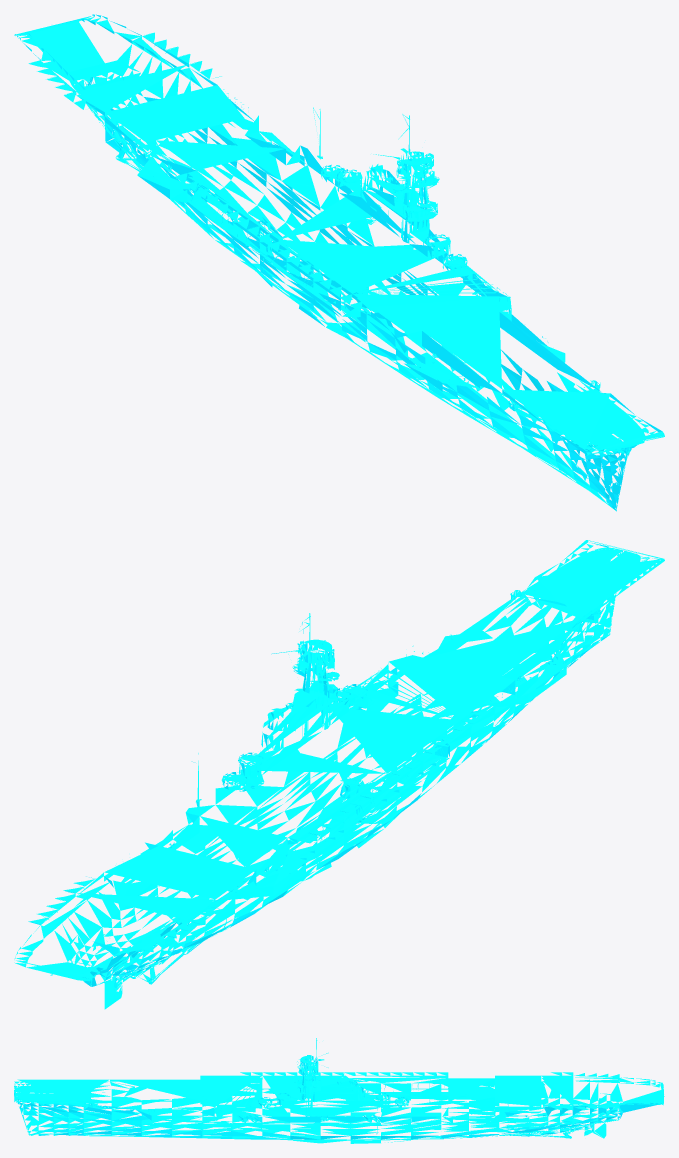
The model's file is Serov.glb.
3 renders of one model, top to bottom at view 1: azimuth 30°, elevation 25°; view 2: azimuth 150°, elevation 25°; view 3: azimuth 270°, elevation 25°, orthographic. The views are drawn at different scales.
Bounding box in the file's own units: 2.09 × 2.74 × 14.2.
